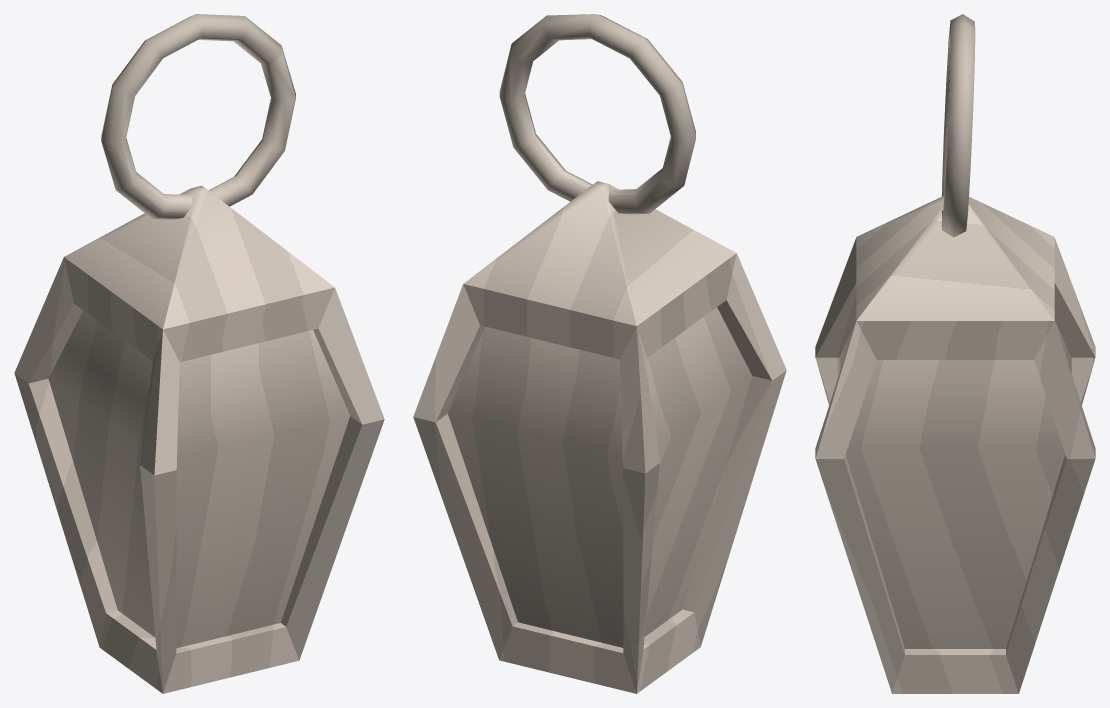
Rendered from Props_Lamp.fbx.
3 renders of one model, left to right at view 1: azimuth 30°, elevation 25°; view 2: azimuth 150°, elevation 25°; view 3: azimuth 270°, elevation 25°, orthographic.
Parts seen in each view (by area): view 1: pCube142; view 2: pCube142; view 3: pCube142.
Boxes of the visible parts, left/top/right/bottom form: pCube142: left=14, top=14, right=384, bottom=693; pCube142: left=413, top=14, right=786, bottom=693; pCube142: left=815, top=14, right=1095, bottom=693.
Size of the model in its own units: 0.1893 by 0.5004 by 0.1994.
